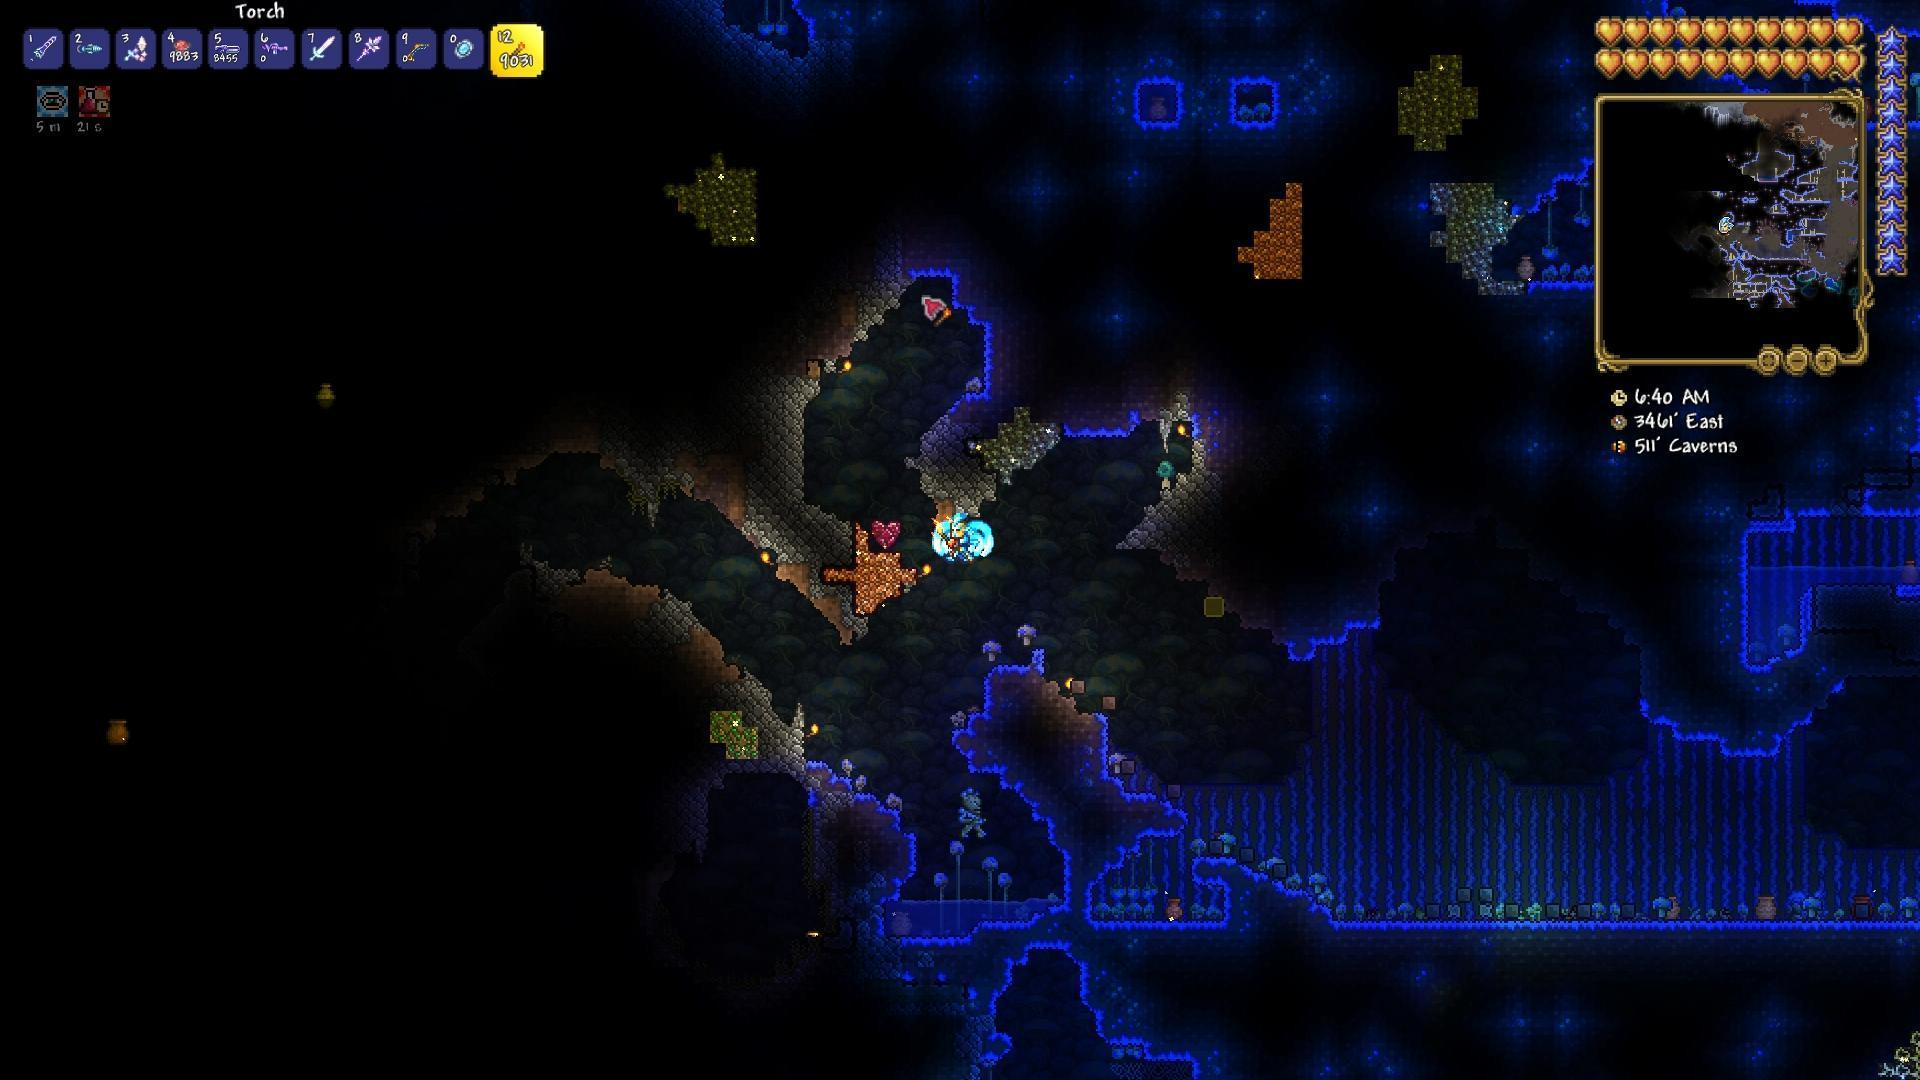lifeC: (869, 509, 902, 558)
pot: (1750, 886, 1778, 916), (1163, 893, 1183, 923)
zombie: (956, 787, 992, 836)
